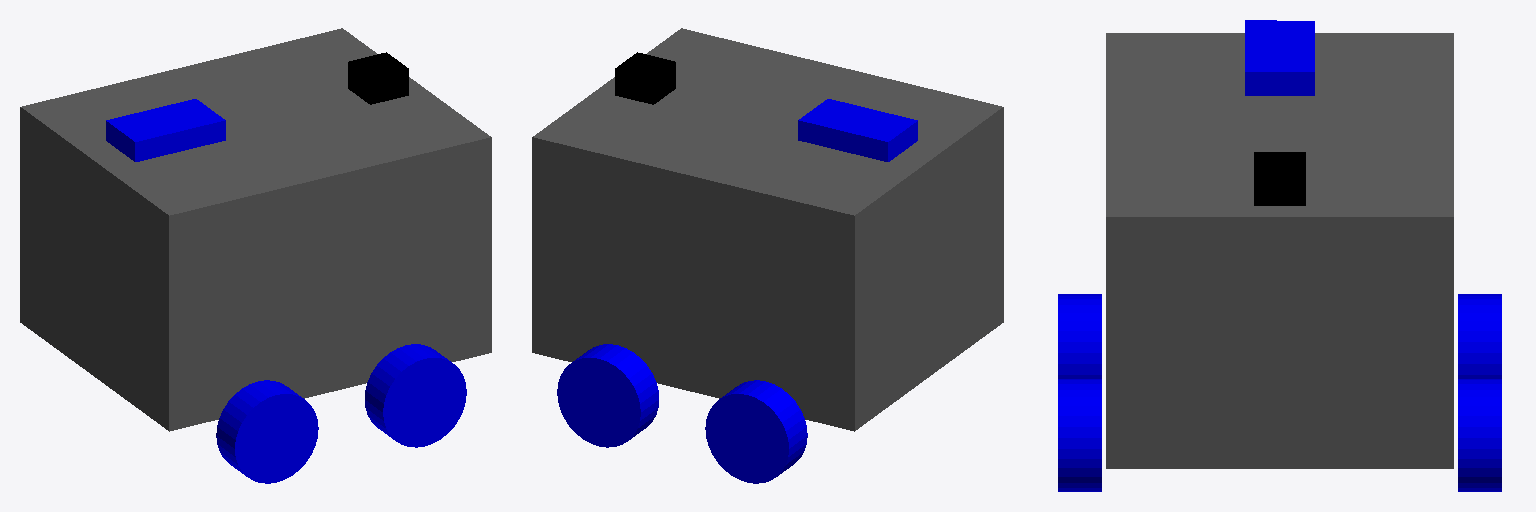
URDF robot description (bot):
<?xml version="1.0"?>
<robot name="bot">
<!--links-->
    <material name="gray">
        <color rgba="0.4 0.4 0.4 1"/>
    </material>
    <material name="black">
        <color rgba="0.0 0.0 0.0 1"/>
    </material>
    <material name="blue">
        <color rgba="0 0 1 2"/>
    </material>
    <material name="white">
        <color rgba="1 1 1 1"/>
    </material>

    <link name="base_footprint">
        <origin xyz="0.0 0.0 0.0" rpy="0.0 0.0 0.0"/>
    </link>
    <link name="fake_laser_link">
        <origin xyz="0.0 0.0 0.0" rpy="0.0 0.0 0.0"/>
    </link>
    <link name="base_link">
        <visual >
            <origin xyz="0.0 0.0 0.09" rpy="0.0 0.0 0.0"/>
            <geometry>
                <box size="0.25 0.2 0.16"/>
            </geometry>
            <material name="gray"/>
        </visual>
        <collision>
            <origin xyz="0.0 0.0 0.09" rpy="0.0 0.0 0.0"/>
            <geometry>
                <box size="0.25 0.2 0.16"/>
            </geometry>
        </collision>
        <inertial>
            <origin xyz="0.0 0.0 0.0" rpy="0.0 0.0 0.0"/>
            <mass value="2.78"/>
            <inertia ixx="0.0290046666667" ixy="0.0" ixz="0.0" iyy="0.022153125" iyz="0.0" izz="0.0244697916667"/>
        </inertial>
        
    </link>
    <link name="imu_link">
        <inertial>
            <origin xyz="0.0 0.0 0.0" rpy="0.0 0.0 0"/>
            <mass value="0.001"/>
            <inertia ixx="0.0000001" ixy="0.000000" ixz="0.000000" iyy="0.00000001" iyz="0.0" izz="0.000000001"/>
        </inertial>
        <visual>
            <origin xyz="0.0 0.0 0.0" rpy="0.0 0.0 -1.5707"/>
            <geometry>
                <box size="0.04 0.07 0.015"/>
            </geometry>
            <material name="blue"/>
        </visual>
        <collision>
            <origin xyz="0.0 0.0 0.0" rpy="0.0 0.0 0.0"/>
            <geometry>
                <box size="0.04 0.07 0.015"/>
            </geometry>
            <material name="blue"/>
        </collision>
    </link>
    <link name="gps_link">
        <inertial>
            <origin xyz="0.0 0.0 0.0" rpy="0.0 0.0 0.0"/>
            <mass value="0.001"/>
            <inertia ixx="0.0000001" ixy="0.000000" ixz="0.000000" iyy="0.00000001" iyz="0.0" izz="0.000000001"/>
        </inertial>
        <visual>
            <origin xyz="0.0 0.0 0.0" rpy="0.0 0.0 0"/>
            <geometry>
                <box size="0.03 0.03 0.02"/>
            </geometry>
            <material name="black"/>
        </visual>
        <collision>
            <origin xyz="0.0 0.0 0.0" rpy="0.0 0.0 0"/>
            <geometry>
                <box size="0.03 0.03 0.02"/>
            </geometry>
        </collision>
    </link>
    <link name="RFW_link">
        <visual >
            <origin xyz="0.0 0.0 0.0" rpy="0.0 1.5707 1.5707"/>
            <geometry>
                <cylinder radius="0.0325" length="0.025"/>
            </geometry>
            <material name="blue"/>
        </visual>
        <collision>
            <origin xyz="0.0 0.0 0.0" rpy="0.0 1.5707 1.5707"/>
            <geometry>
                <cylinder radius="0.0325" length="0.025"/>
            </geometry>
        </collision>
        <inertial>
            <origin xyz="0.0 0.0 0.0" rpy="0.0 1.5707 1.5707"/>
            <mass value="0.156"/>
            <inertia ixx="0.000211575" ixy="0.0" ixz="0.0" iyy="0.000211575" iyz="0.0" izz="0.00032955"/>
        </inertial>
    </link>
    <link name="LFW_link">
        <visual >
            <origin xyz="0.0 0.0 0.0" rpy="0.0 1.5707 1.5707"/>
            <geometry>
                <cylinder radius="0.0325" length="0.025"/>
            </geometry>
            <material name="blue"/>
        </visual>
        <collision>
            <origin xyz="0.0 0.0 0.0" rpy="0.0 1.5707 1.5707"/>
            <geometry>
                <cylinder radius="0.0325" length="0.025"/>
            </geometry>
        </collision>
        <inertial>
            <origin xyz="0.0 0.0 0.0" rpy="0.0 1.5707 1.5707"/>
            <mass value="0.156"/>
            <inertia ixx="0.000211575" ixy="0.0" ixz="0.0" iyy="0.000211575" iyz="0.0" izz="0.00032955"/>
        </inertial>
    </link>
    <link name="RBW_link">
        <visual >
            <origin xyz="0.0 0.0 0.0" rpy="0.0 1.5707 1.5707"/>
            <geometry>
                <cylinder radius="0.0325" length="0.025"/>
            </geometry>
            <material name="blue"/>
        </visual>
        <collision>
            <origin xyz="0.0 0.0 0.0" rpy="0.0 1.5707 1.5707"/>
            <geometry>
                <cylinder radius="0.0325" length="0.025"/>
            </geometry>
        </collision>
        <inertial>
            <origin xyz="0.0 0.0 0.0" rpy="0.0 1.5707 1.5707"/>
            <mass value="0.156"/>
            <inertia ixx="0.000211575" ixy="0.0" ixz="0.0" iyy="0.000211575" iyz="0.0" izz="0.00032955"/>
        </inertial>
    </link>
    <link name="LBW_link">
        <visual >
            <origin xyz="0.0 0.0 0.0" rpy="0.0 1.5707 1.5707"/>
            <geometry>
                <cylinder radius="0.0325" length="0.025"/>
            </geometry>
            <material name="blue"/>
        </visual>
        <collision>
            <origin xyz="0.0 0.0 0.0" rpy="0.0 1.5707 1.5707"/>
            <geometry>
                <cylinder radius="0.0325" length="0.025"/>
            </geometry>
        </collision>
        <inertial>
            <origin xyz="0.0 0.0 0.0" rpy="0.0 1.5707 1.5707"/>
            <mass value="0.156"/>
            <inertia ixx="0.000211575" ixy="0.0" ixz="0.0" iyy="0.000211575" iyz="0.0" izz="0.00032955"/>
        </inertial>
    </link>
<!--joints-->
    <joint name="base_joint" type="fixed">
        <origin xyz="0.0 0.0 0.0" rpy="0.0 0.0 0"/>
        <parent link="base_footprint"/>
        <child link="base_link"/>
    </joint>
    <joint name="fake_laser_joint" type="fixed">
        <origin xyz="0.0 0.0 0.0" rpy="0.0 0.0 0"/>
        <parent link="base_link"/>
        <child link="fake_laser_link"/>
    </joint>
    <joint name="imu_joint" type="fixed">
        <origin xyz="-0.07 0.0 0.18" rpy="0.0 0.0 3.14"/>
        <parent link="base_link"/>
        <child link="imu_link"/>
    </joint>
    <joint name="gps_joint" type="fixed">
        <origin xyz="0.095 0.0 0.18" rpy="0.0 0.0 0.0"/>
        <parent link="base_link"/>
        <child link="gps_link"/>
    </joint>
    <joint name="LFW_joint" type="continuous">
        <origin xyz=" 0.0575 0.115 0.0" rpy="0.0 0.0 0.0"/>
        <parent link="base_link"/>
        <child link="RFW_link"/>
        <axis xyz="0.0 1.0 0.0"/>
        <limit effort="100" velocity="100"/> 
    </joint>
    <joint name="LBW_joint" type="continuous">
        <origin xyz=" -0.0575 0.115 0.0" rpy="0.0 0.0 0.0"/>
        <parent link="base_link"/>
        <child link="LFW_link"/>
        <axis xyz="0.0 1.0 0.0"/>
        <limit effort="100" velocity="100"/> 
    </joint>
    <joint name="RBW_joint" type="continuous">
        <origin xyz="-0.0575 -0.115 0.0" rpy="0.0 0.0 0.0"/>
        <parent link="base_link"/>
        <child link="RBW_link"/>
        <axis xyz="0.0 1.0 0.0"/>
        <limit effort="100" velocity="100"/> 
    </joint>
    <joint name="RFW_joint" type="continuous">
        <origin xyz="0.0575 -0.115  0.0" rpy="0.0 0.0 0.0"/>
        <parent link="base_link"/>
        <child link="LBW_link"/>
        <axis xyz="0.0 1.0 0.0"/>
        <limit effort="100" velocity="100"/> 
    </joint>
<!--transmissions-->
    <transmission name="RFW_transmission">
        <type>transmission_interface/SimpleTransmission</type>
        <joint name="RFW_joint">
            <hardwareInterface>hardware_interface/VelocityJointInterface</hardwareInterface>  
        </joint>
        <actuator name="RFW_actuator">
            <mechanicalReduction>7</mechanicalReduction>
            <hardwareInterface>hardware_interface/VelocityJointInterface</hardwareInterface>
        </actuator>
    </transmission>

    <transmission name="LFW_transmission">
        <type>transmission_interface/SimpleTransmission</type>
        <joint name="LFW_joint">
            <hardwareInterface>hardware_interface/VelocityJointInterface</hardwareInterface>  
        </joint>
        <actuator name="LFW_actuator">
            <mechanicalReduction>7</mechanicalReduction>
            <hardwareInterface>hardware_interface/VelocityJointInterface</hardwareInterface>
        </actuator>
    </transmission>

    <transmission name="RBW_transmission">
        <type>transmission_interface/SimpleTransmission</type>
        <joint name="RBW_joint">
            <hardwareInterface>hardware_interface/VelocityJointInterface</hardwareInterface>  
        </joint>
        <actuator name="RBW_actuator">
            <mechanicalReduction>7</mechanicalReduction>
            <hardwareInterface>hardware_interface/VelocityJointInterface</hardwareInterface>
        </actuator>
    </transmission>

    <transmission name="LBW_transmission">
        <type>transmission_interface/SimpleTransmission</type>
        <joint name="LBW_joint">
            <hardwareInterface>hardware_interface/VelocityJointInterface</hardwareInterface>  
        </joint>
        <actuator name="LBW_actuator">
            <mechanicalReduction>7</mechanicalReduction>
            <hardwareInterface>hardware_interface/VelocityJointInterface</hardwareInterface>
        </actuator>
    </transmission>
    

</robot>

--- Render facts (derived) ---
Views: 3 orthographic renders of the robot side by side, from view 1: azimuth 30°, elevation 25°; view 2: azimuth 150°, elevation 25°; view 3: azimuth 270°, elevation 25°.
Robot: bot — 9 links, 8 joints (4 continuous, 4 fixed); root link base_footprint; default pose: all joints at 0.
Links seen in each view (by area): view 1: base_link, LBW_link, RBW_link, imu_link, gps_link; view 2: base_link, RFW_link, LFW_link, imu_link, gps_link; view 3: base_link, imu_link, RFW_link, LBW_link, LFW_link, RBW_link, gps_link.
Link boxes in pixels (x1,y1,x2,y2): base_link: [20, 28, 491, 431]; LBW_link: [365, 344, 466, 447]; RBW_link: [216, 380, 318, 483]; imu_link: [106, 99, 225, 161]; gps_link: [348, 52, 408, 104]; base_link: [532, 28, 1003, 431]; RFW_link: [557, 344, 658, 447]; LFW_link: [705, 380, 807, 483]; imu_link: [798, 99, 917, 161]; gps_link: [615, 52, 675, 104]; base_link: [1106, 33, 1453, 468]; imu_link: [1245, 20, 1314, 95]; RFW_link: [1458, 379, 1501, 491]; LBW_link: [1058, 379, 1101, 491]; LFW_link: [1458, 294, 1501, 378]; RBW_link: [1058, 294, 1101, 378]; gps_link: [1254, 152, 1305, 205].
Size in the robot's own frame: 0.25 by 0.255 by 0.2225 metres.
Geometry: primitives only (box / cylinder / sphere), no mesh files.